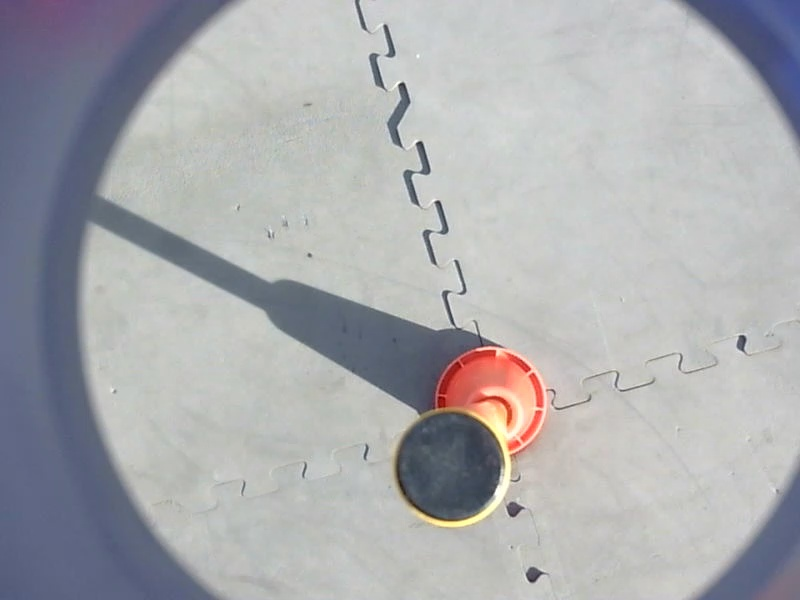tip: (387, 402, 518, 536)
